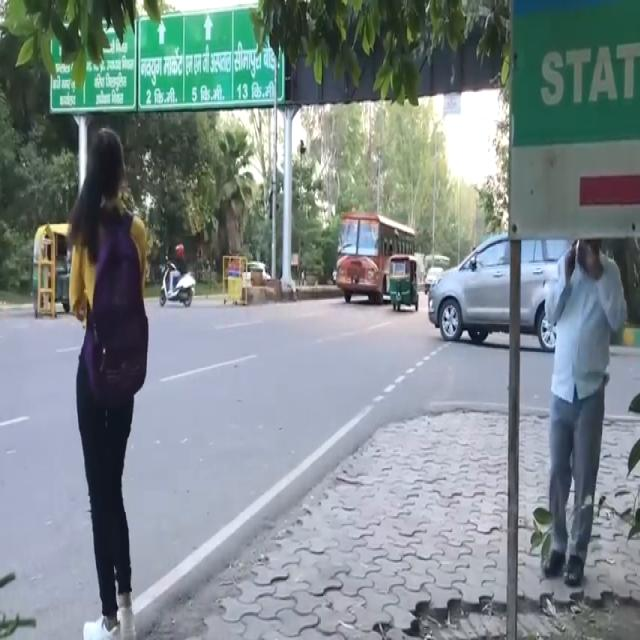BUS: (331, 208, 389, 308)
MOTORCYCLE: (160, 255, 192, 309)
SUV: (431, 230, 579, 355)
